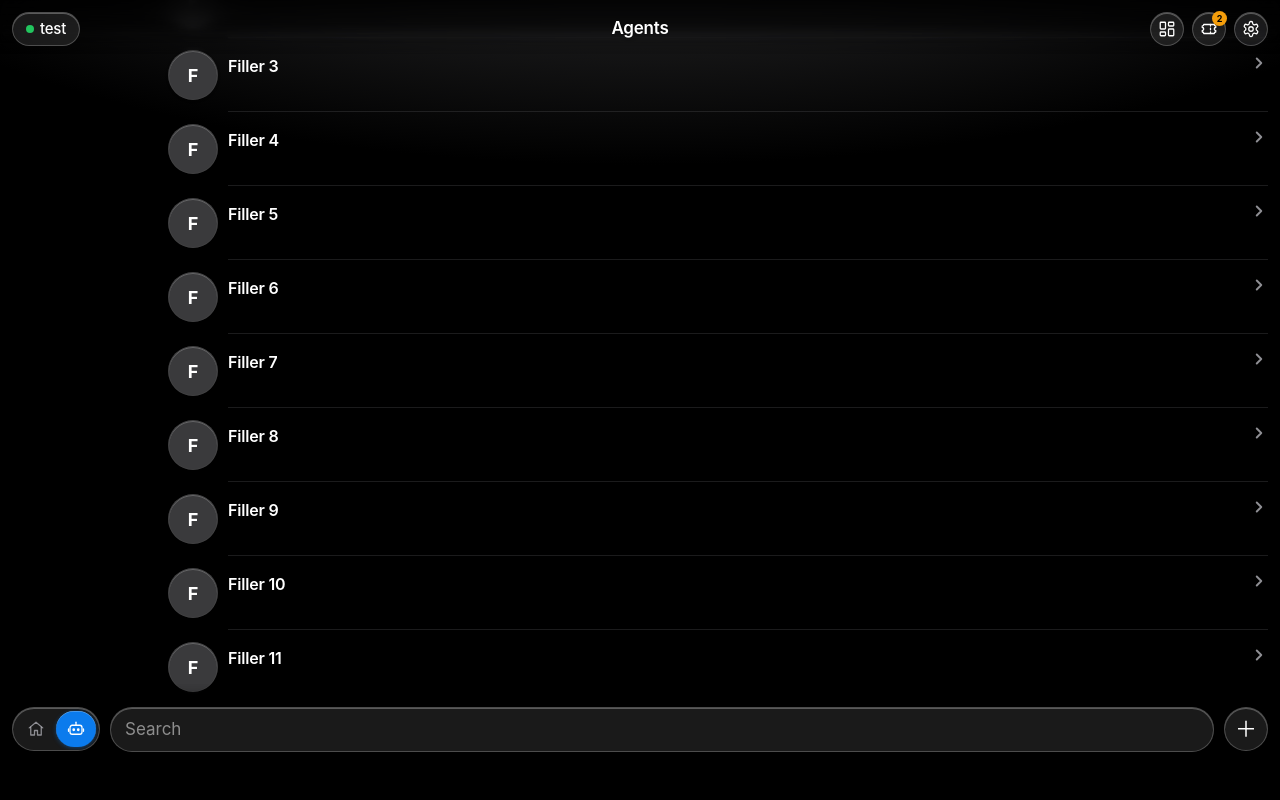
Test case: ChatsList › searching from a scrolled list jumps to the top so the hit is on screen
This screenshot has width=1280, height=800.
(page scrolled)
Type "qa1a5ee" into the search field with placeholder "Search".
click(662, 729); type("qa1a5ee")  # box [125, 716, 1199, 742]
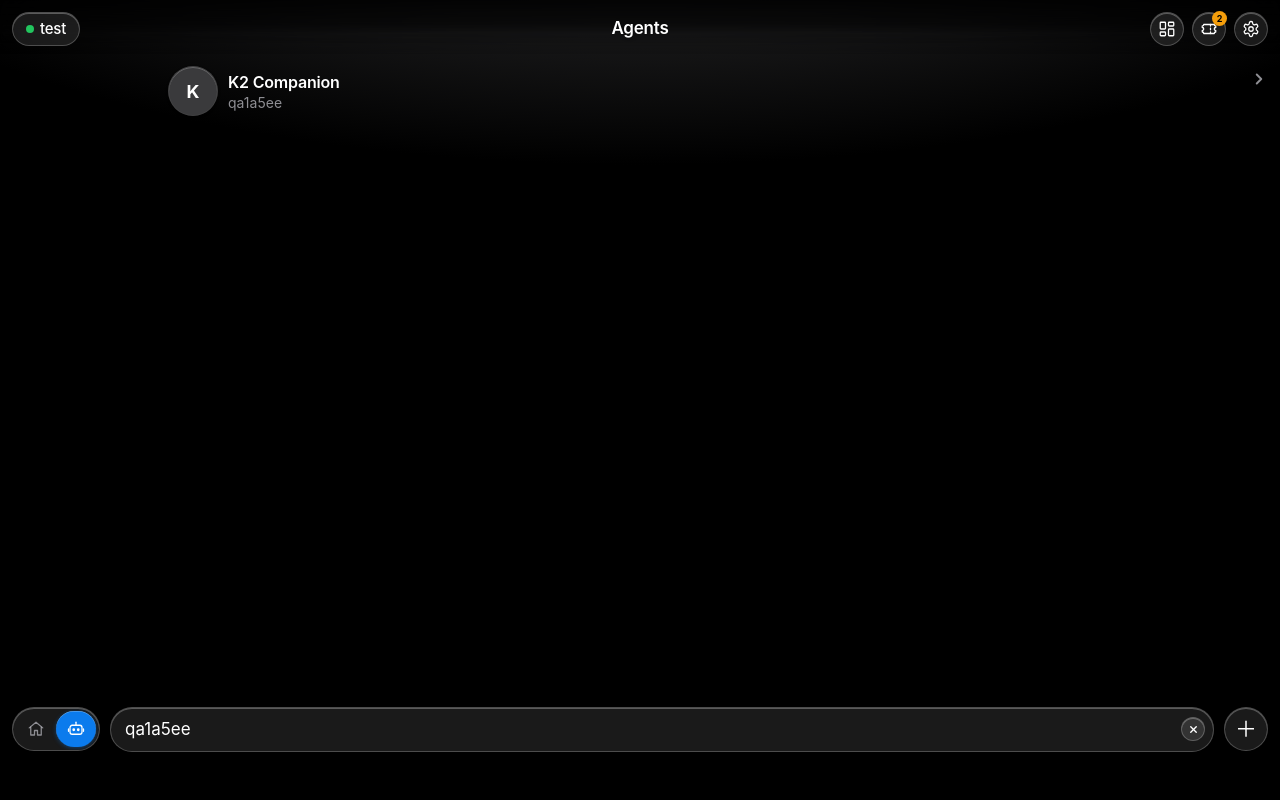
Expected: the button with aria-label "K2 Companion, qa1a5ee" is shown, [0, 54, 1279, 128]
